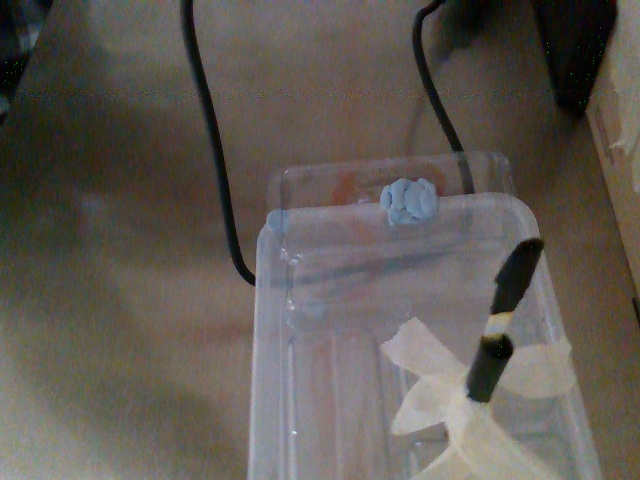test_strip: (483, 238, 548, 338)
